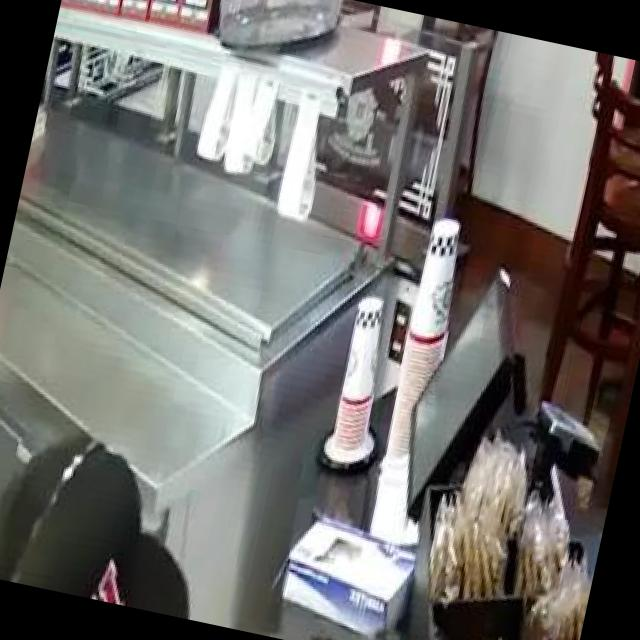Guns: (202, 567, 423, 640)
